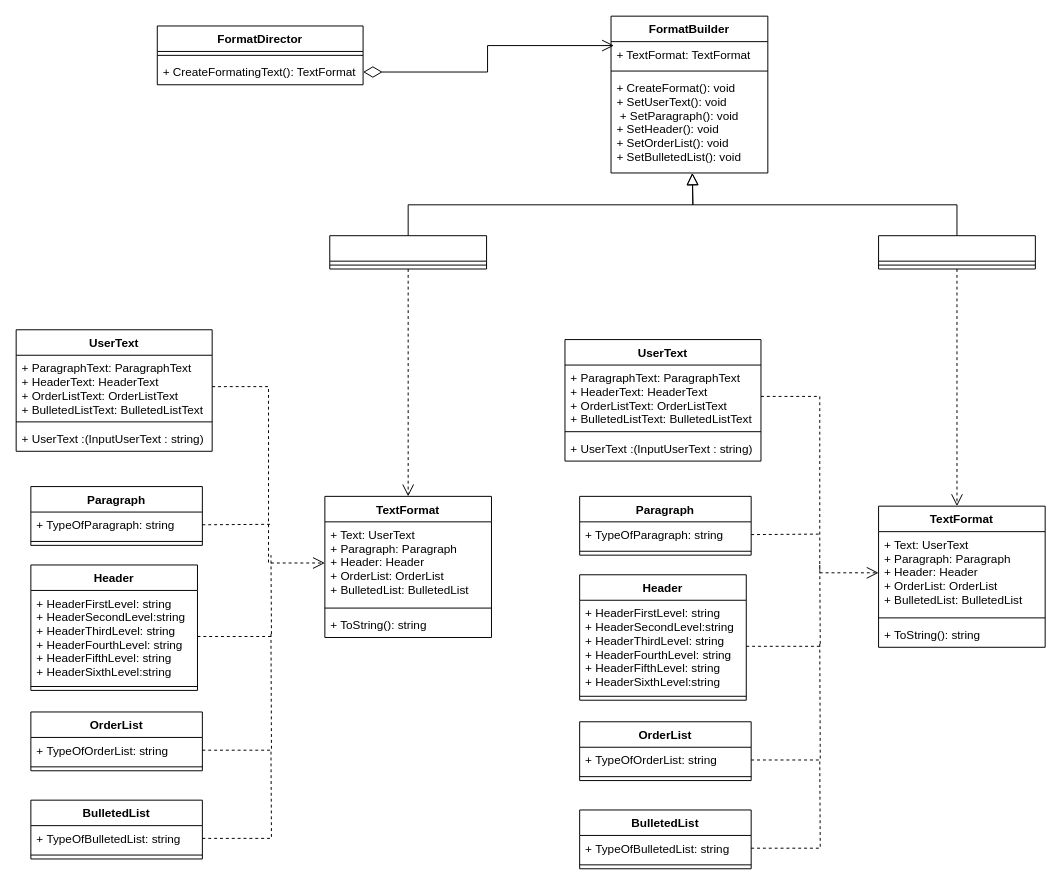
The diagram is 1061 pixels wide and 885 high, and some of its shapes have lost their labels. Each missing label, with the centre of its shape:
"HTMLFormatBuilder" goes at (x=956, y=252).
"MarkdownFormatBuilder" goes at (x=408, y=252).
